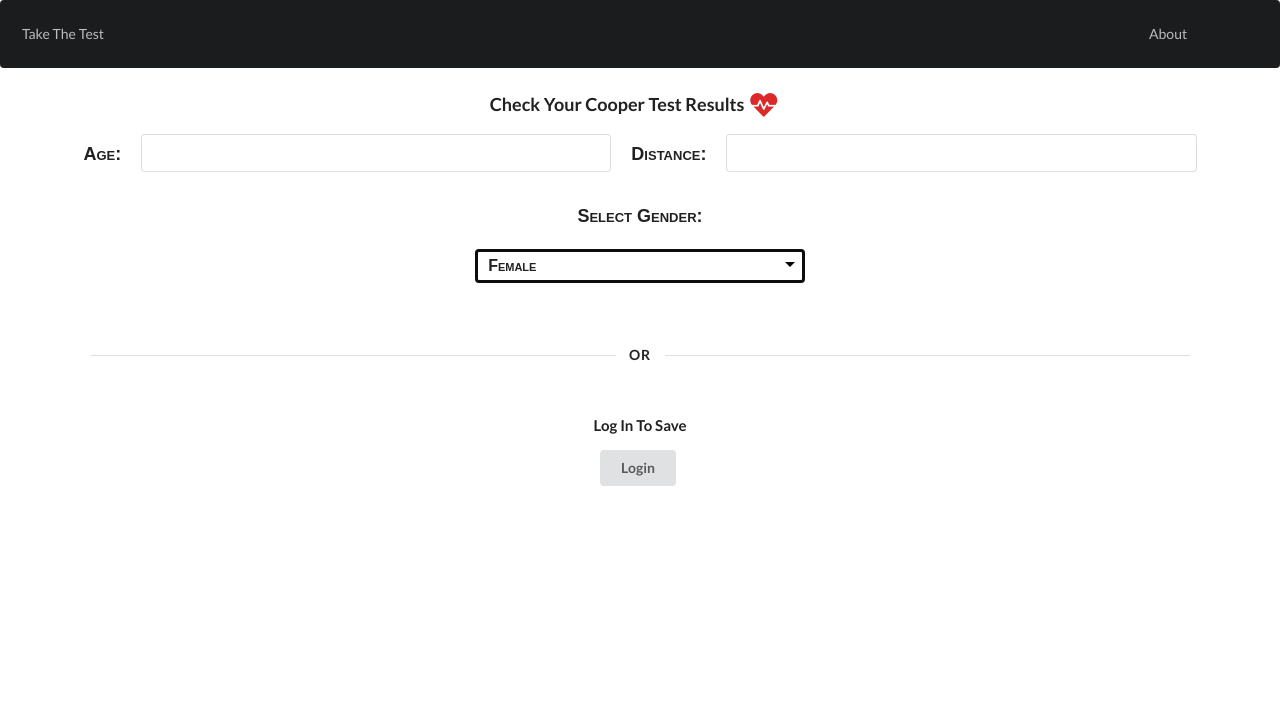
Test case: User can log in › with invalid credentials
The image size is (1280, 720).
Click the button with id "login": (638, 468) [600,450,676,486]
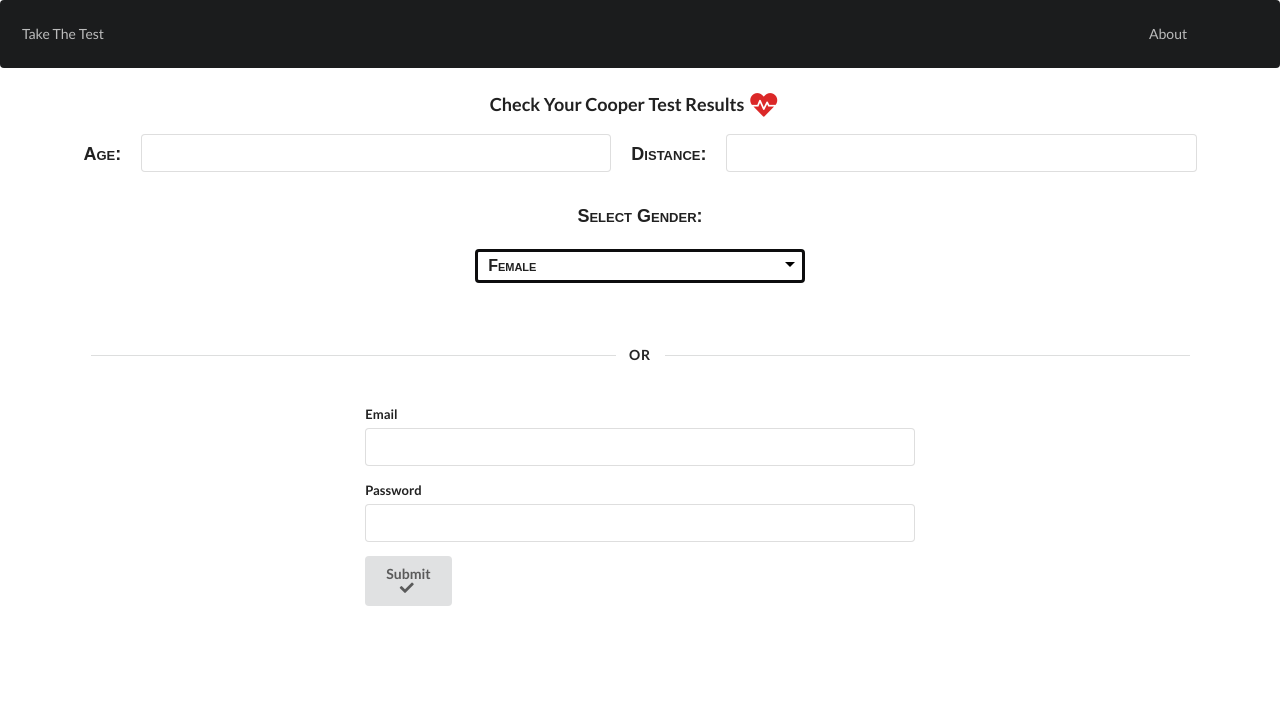
In the field with id "email": (640, 447) [365,428,915,466], type "user@mail.com"
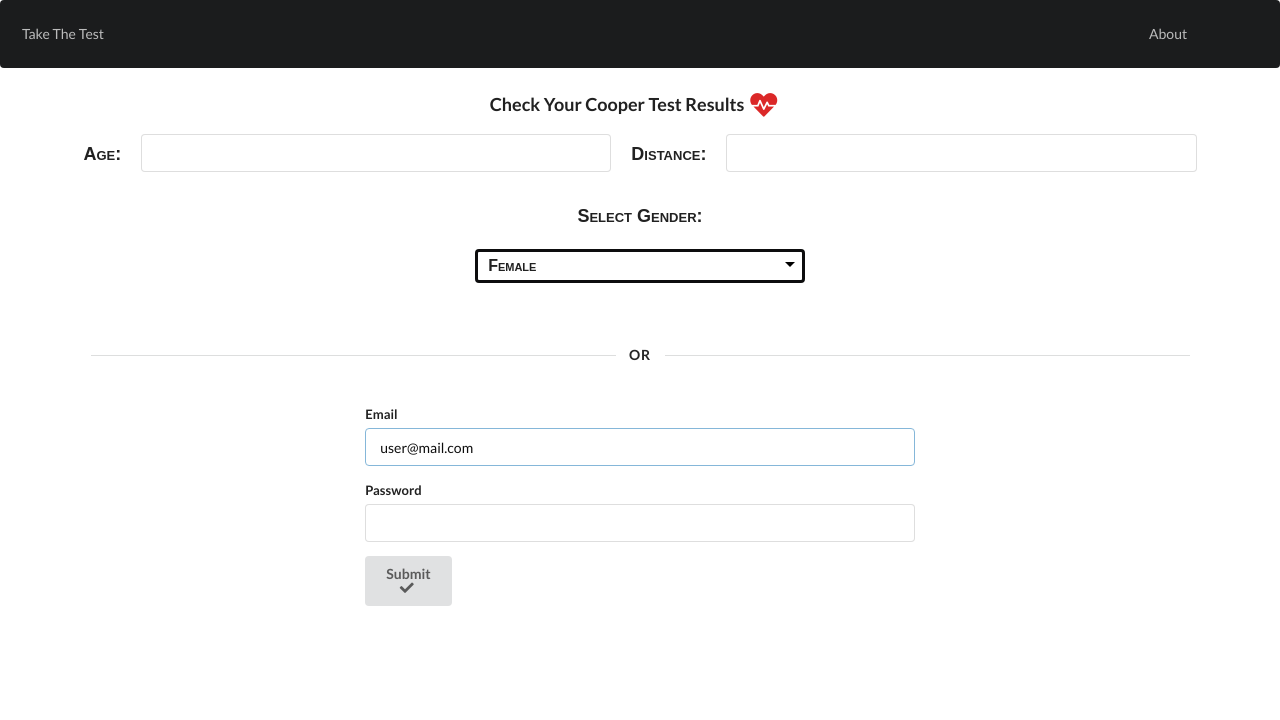
In the password field: (640, 523) [365,504,915,542], type "wrongpassword"
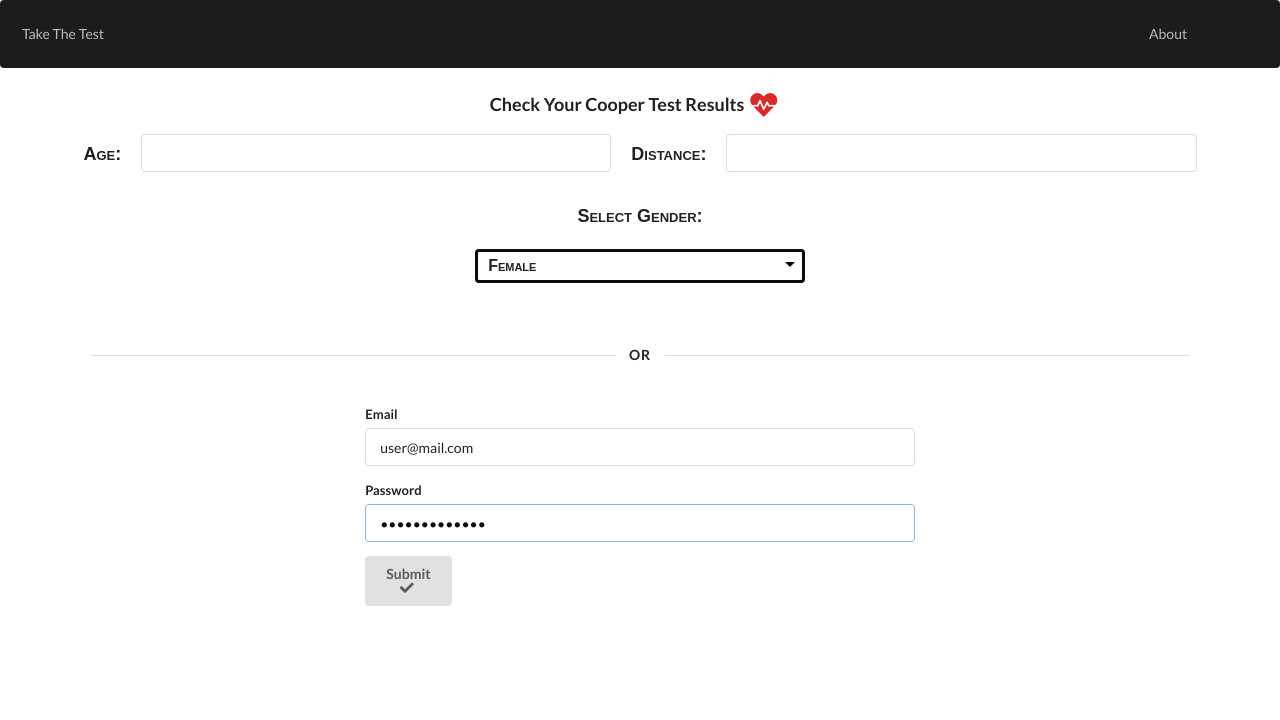
Click the button "Submit": (409, 581) [365,556,452,606]
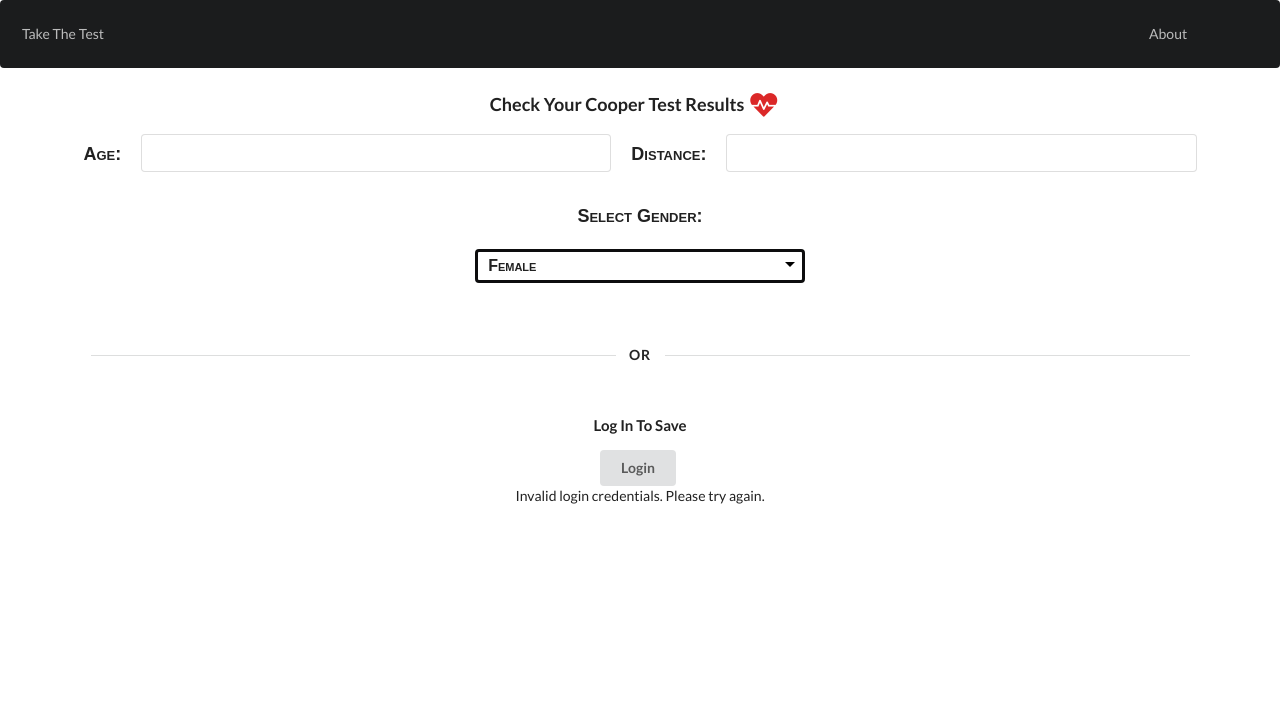
Expected: the text with id "login-error" reads "Invalid login credentials. Please try again.", [515,487,764,504]
